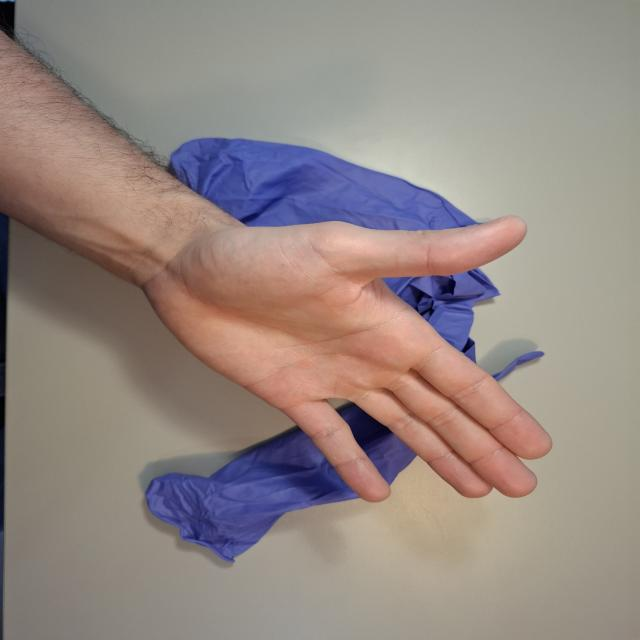glove_off: (131, 211, 555, 504)
